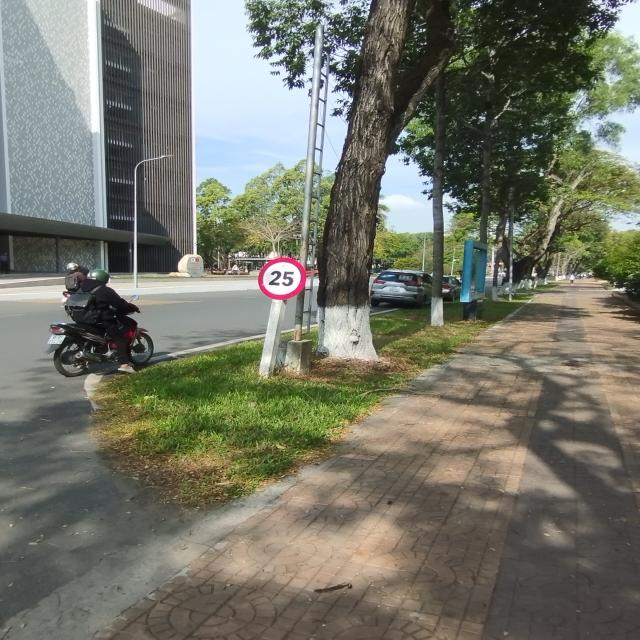Tre_Em: (258, 258, 307, 299)
